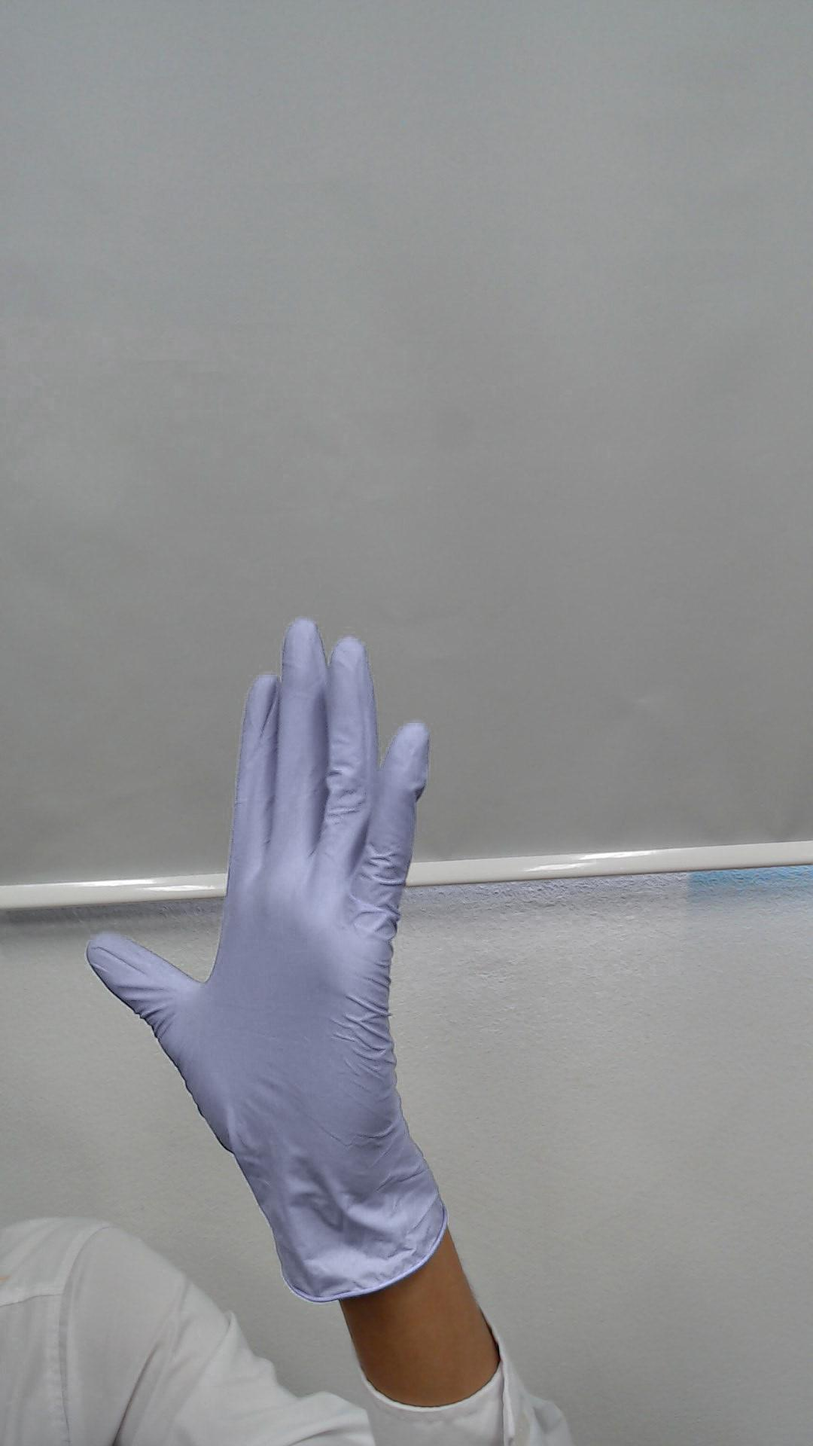gloves: (77, 602, 445, 1182)
